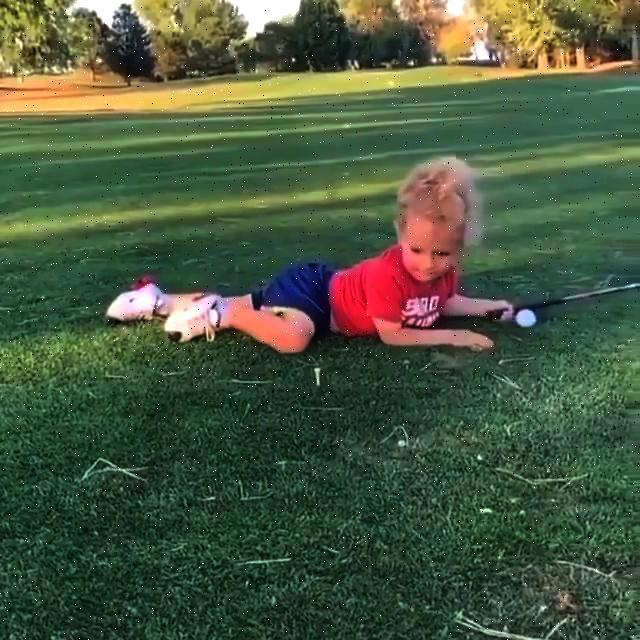ClubHandle: (483, 280, 640, 320)
GolfBall: (518, 305, 539, 327)
